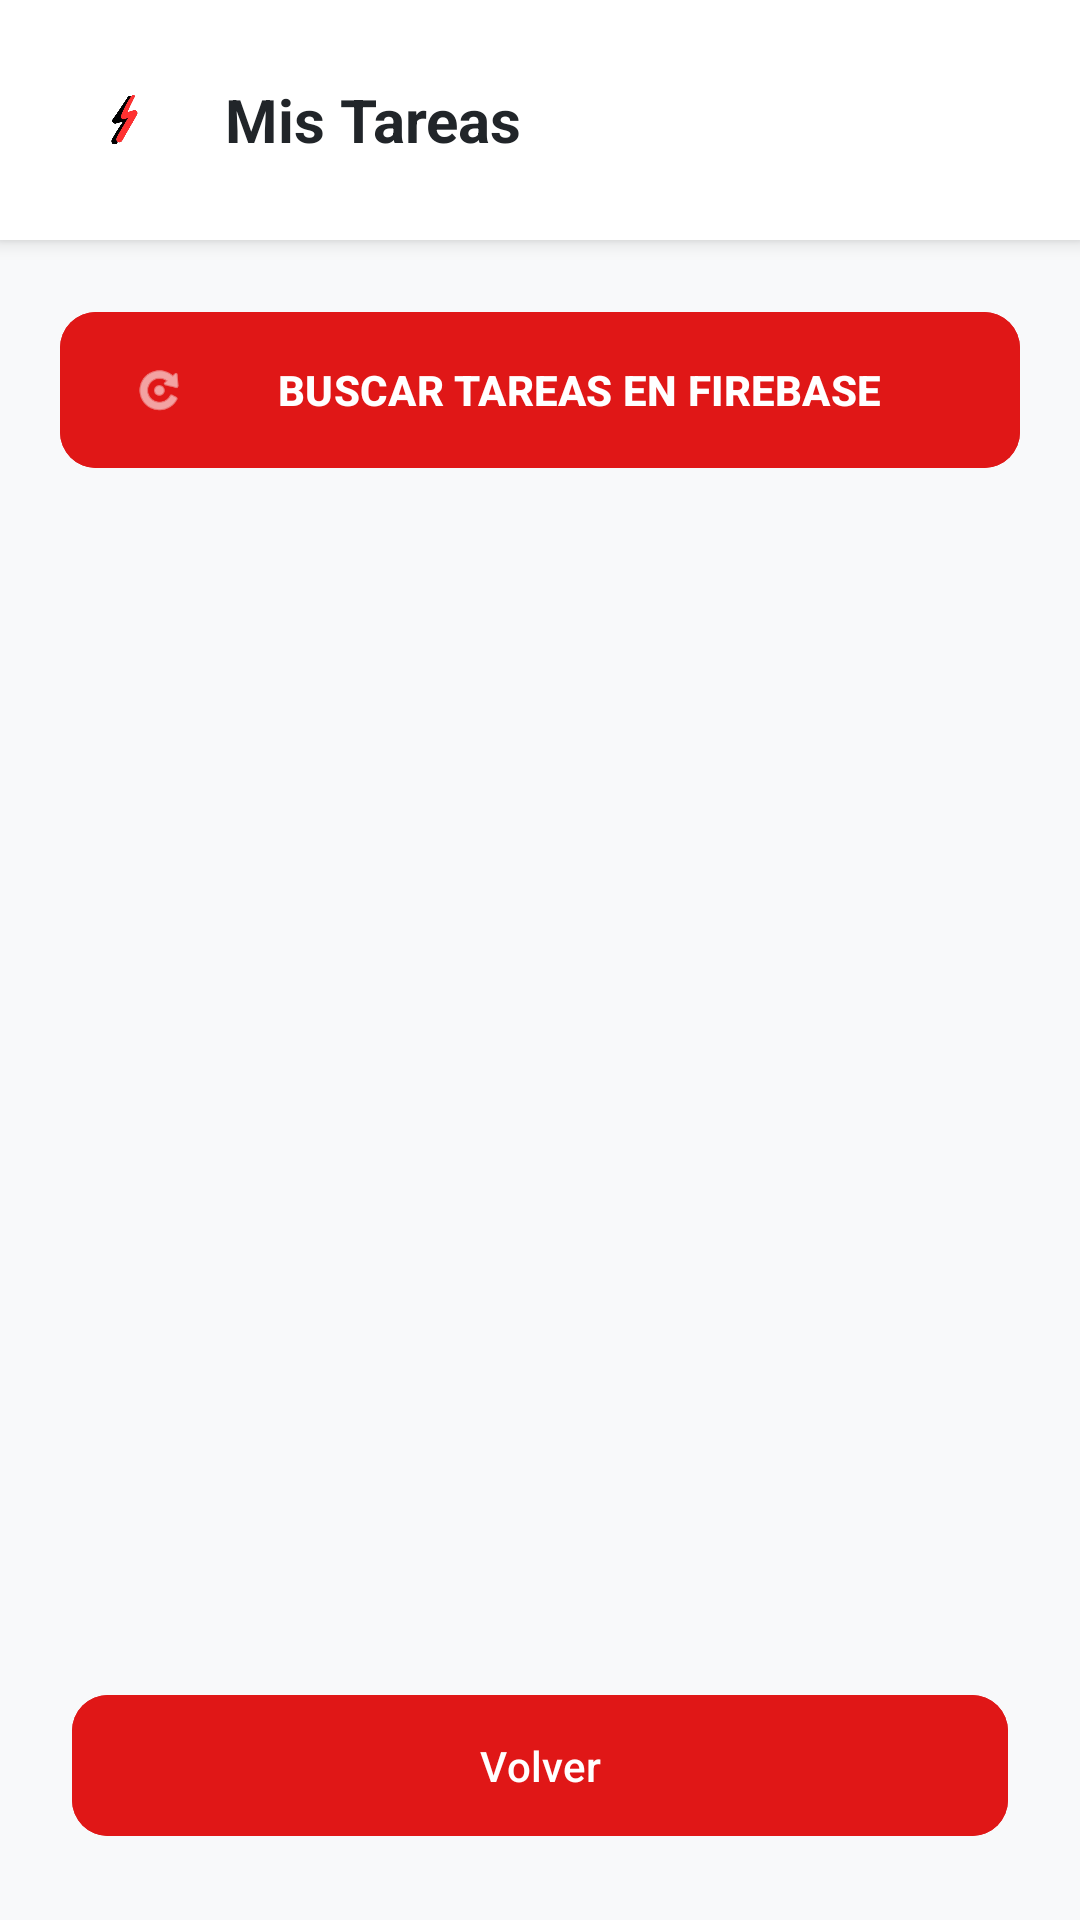

Icons on this 1080x1920 Android screen, each with its box as (x1, y1, x2, y2):
rayitoimpulse: (111, 95, 138, 144)
